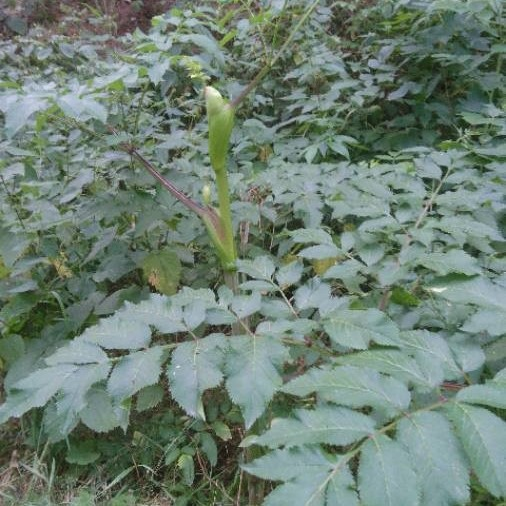obstacle: (38, 276, 487, 503), (277, 148, 488, 324)
